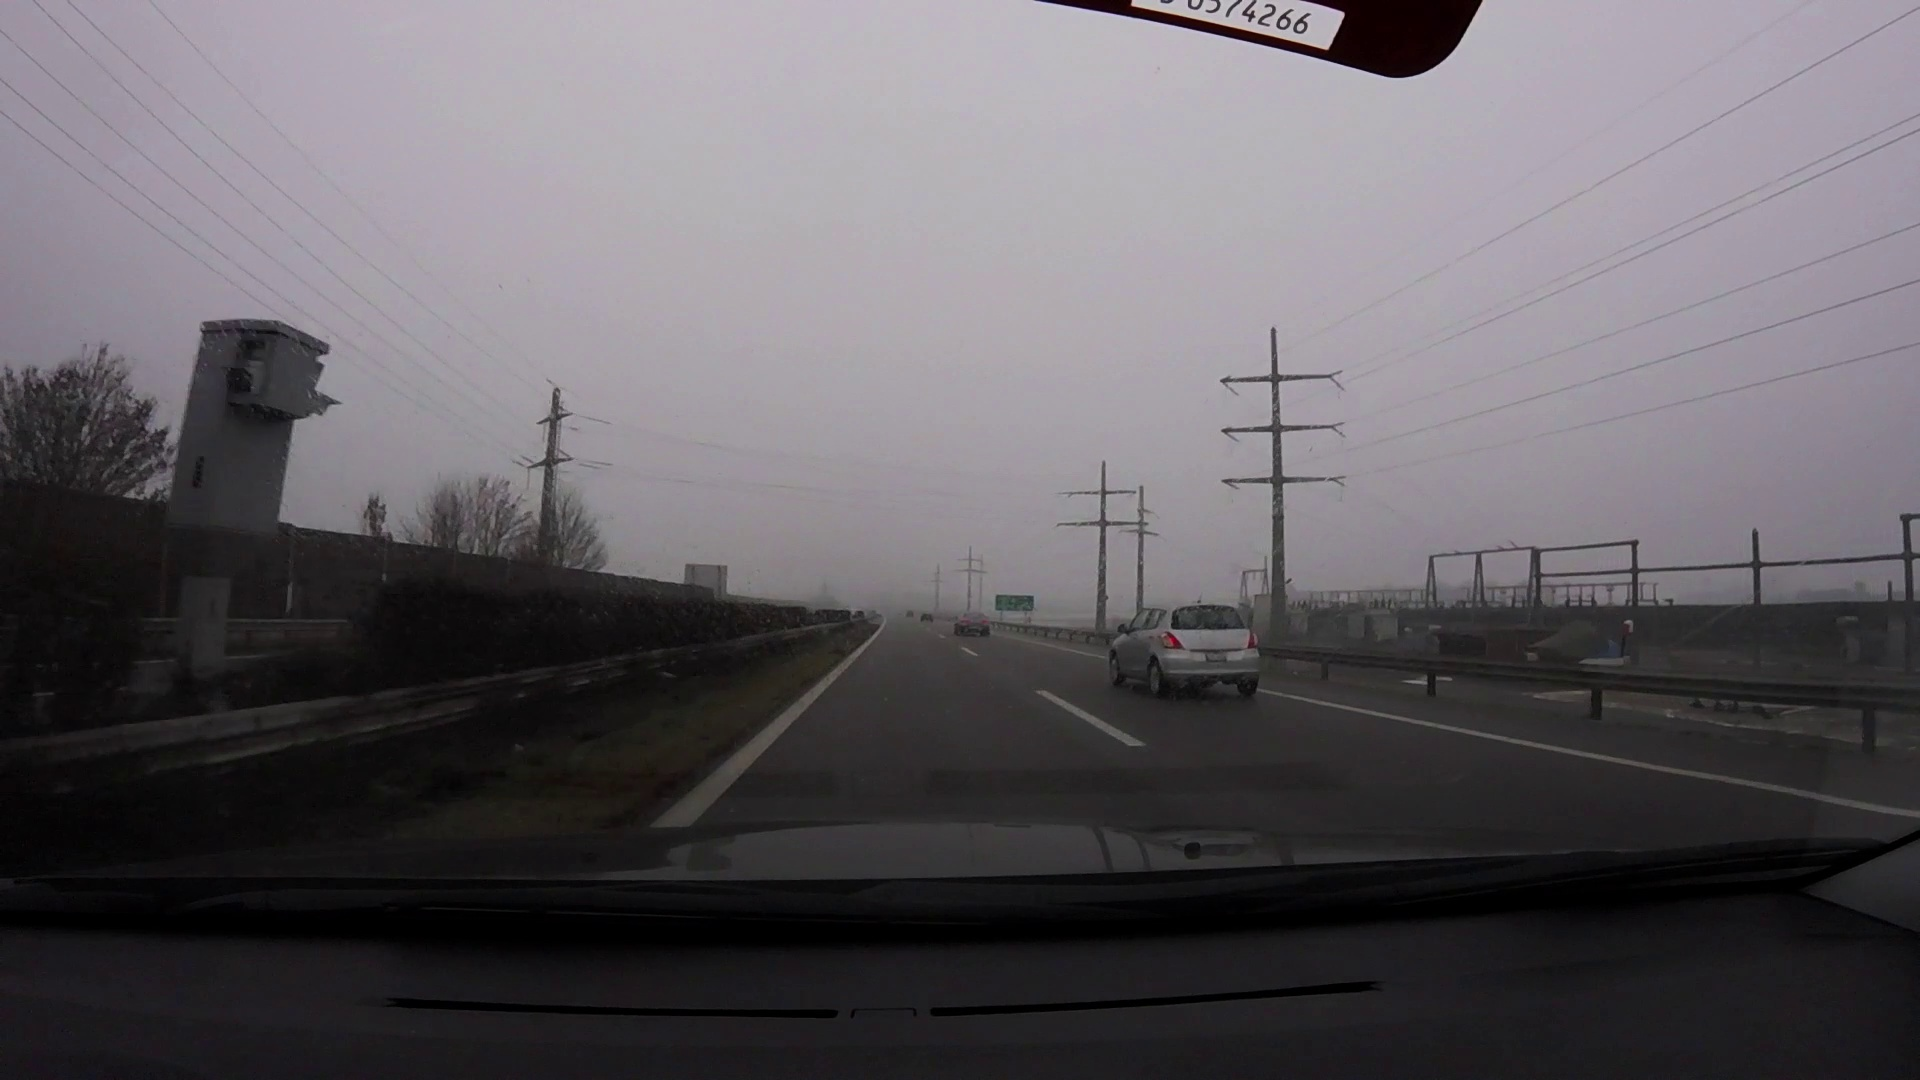radar: (157, 316, 345, 613)
